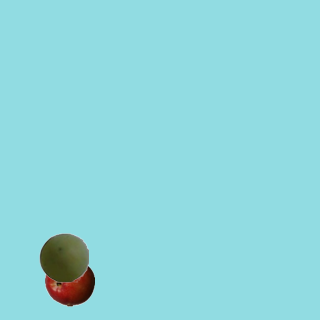Apple Braeburn: (44, 256, 94, 306)
Grape White 4: (38, 232, 88, 282)
